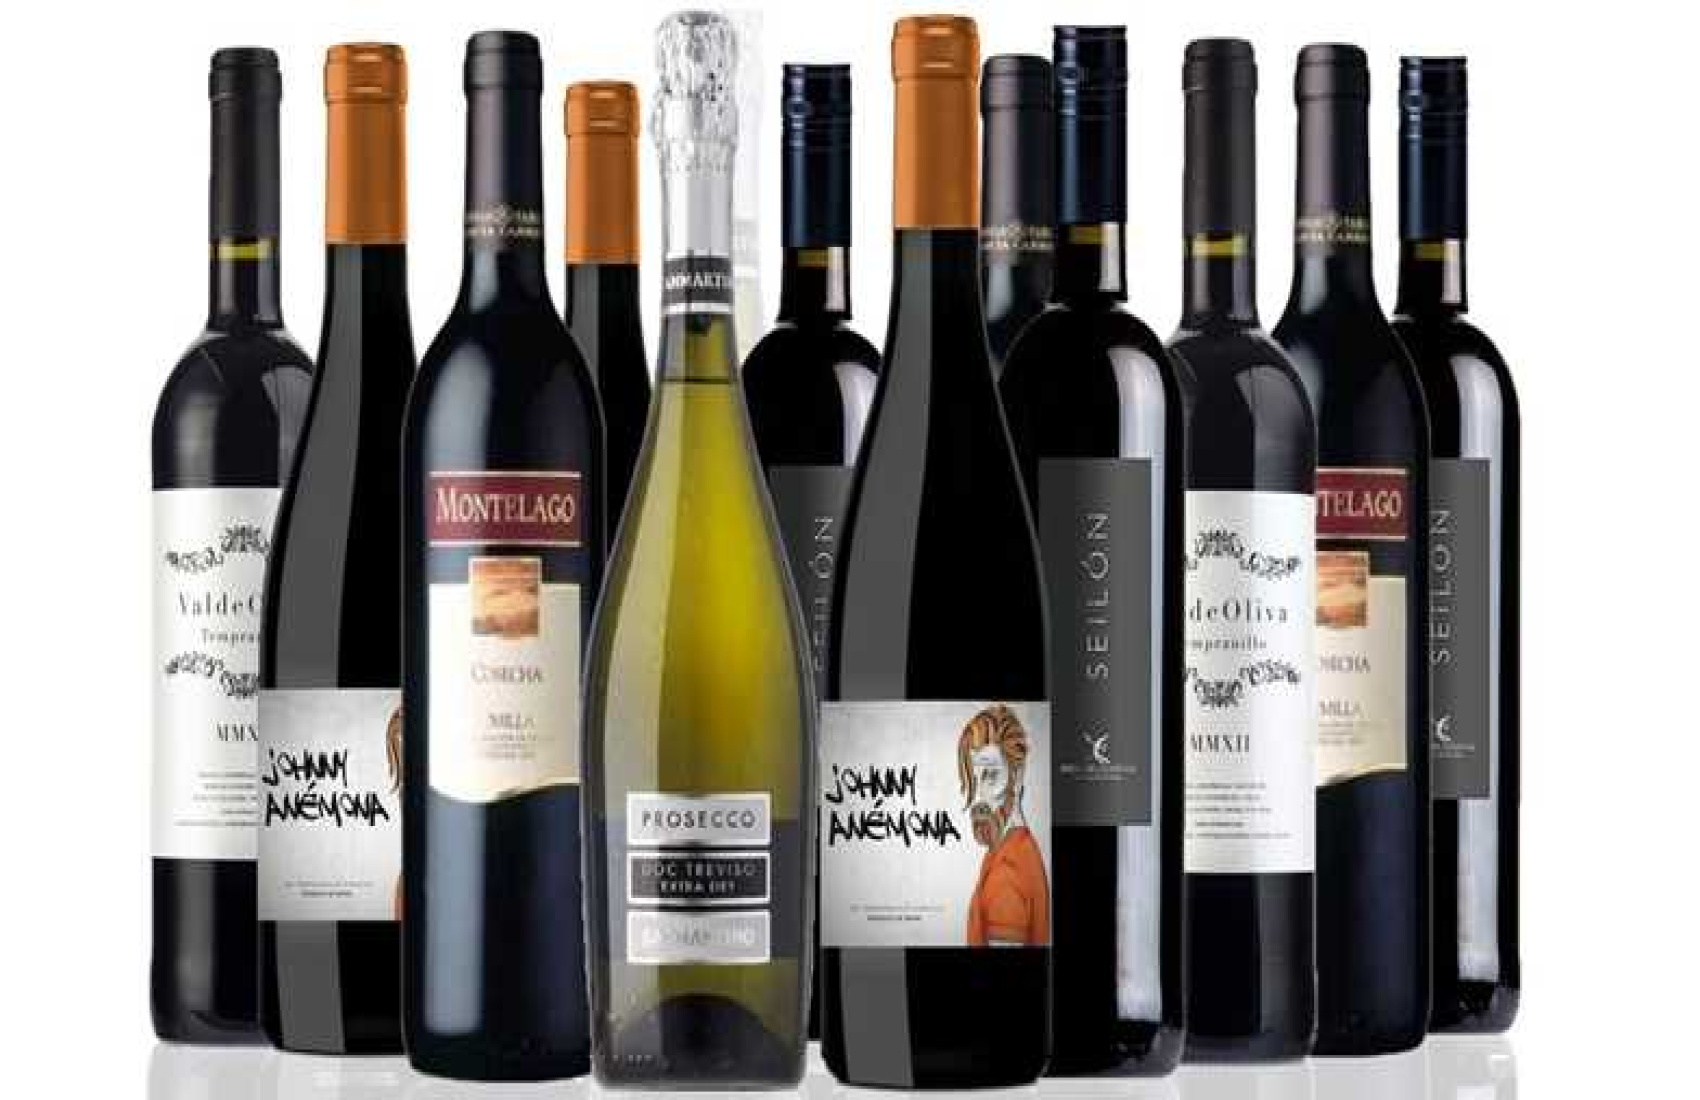wine: (572, 59, 809, 1079), (812, 64, 1048, 1084), (404, 81, 577, 1057), (261, 79, 410, 1034), (1172, 105, 1321, 1060)
